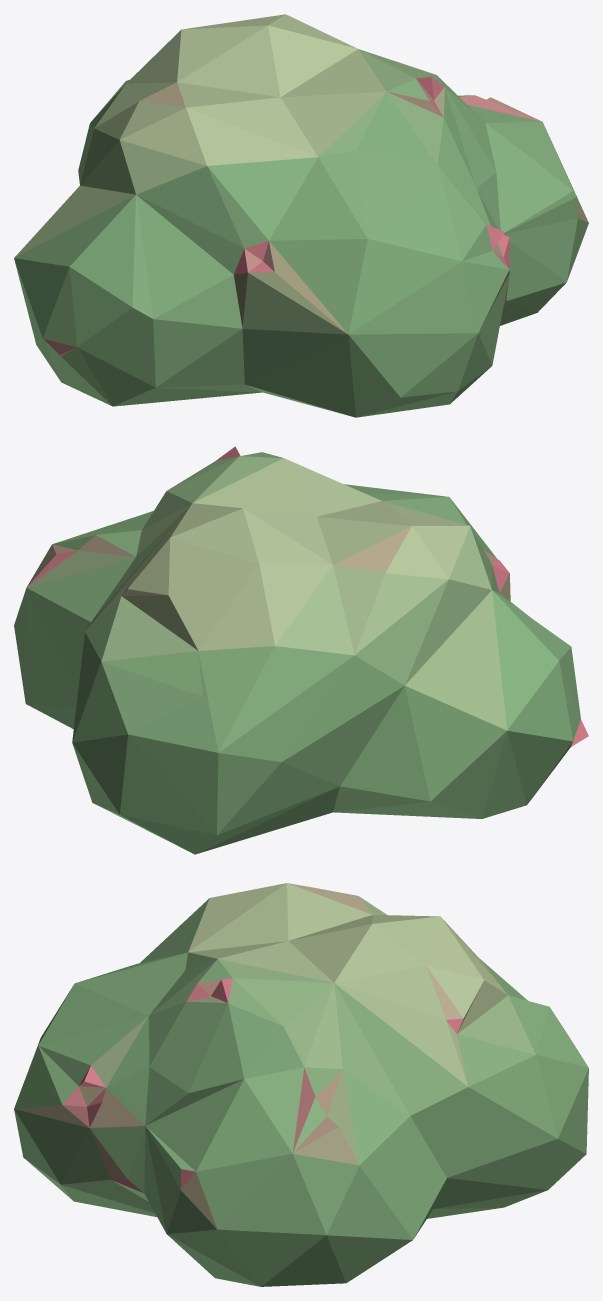
Rendered from bush.glb.
3 views of the same model, one above another, from view 1: azimuth 30°, elevation 25°; view 2: azimuth 150°, elevation 25°; view 3: azimuth 270°, elevation 25° (orthographic). The views are drawn at different scales.
Visible parts, largest first — view 1: scenery; view 2: scenery; view 3: scenery.
Part boxes in pixels (x1,y1,x2,y2): scenery: [14, 14, 588, 417]; scenery: [14, 446, 588, 854]; scenery: [14, 883, 588, 1286].
Size of the model in its own units: 2.04 by 1 by 1.96.
